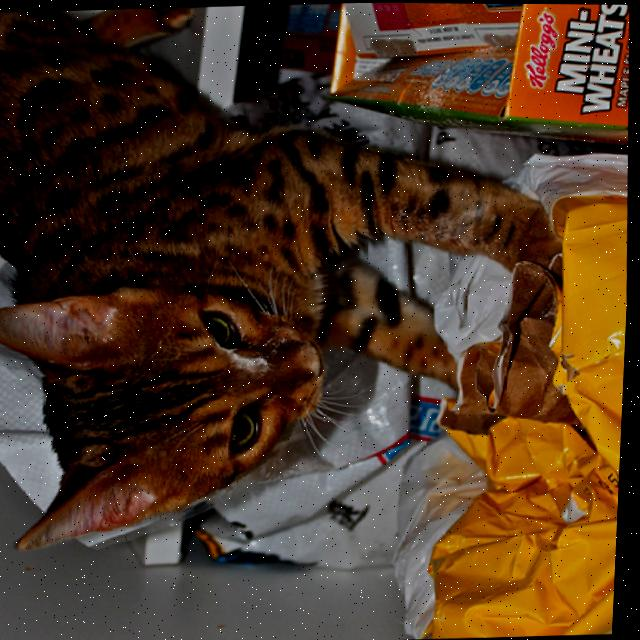Bengal: (0, 0, 610, 559)
